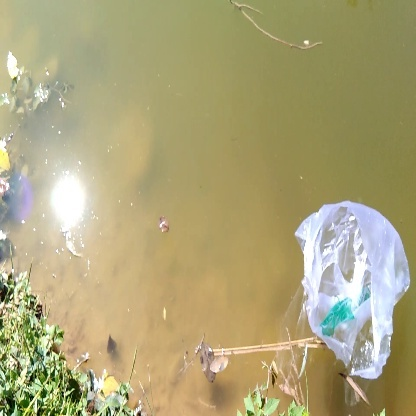plastic-bag: (292, 197, 412, 382)
